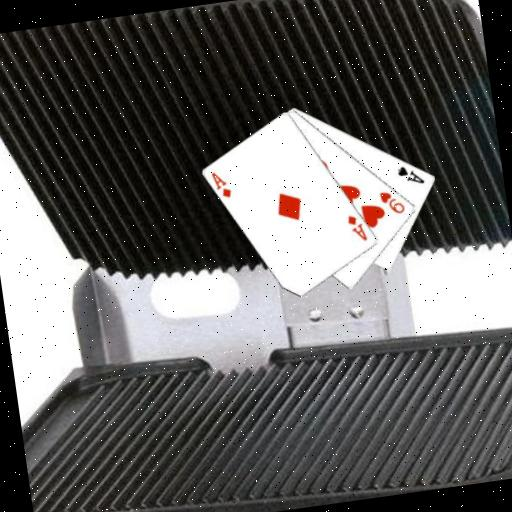9H: (376, 186, 407, 218)
AD: (344, 210, 370, 245), (208, 167, 234, 201)
AS: (394, 160, 427, 189)
